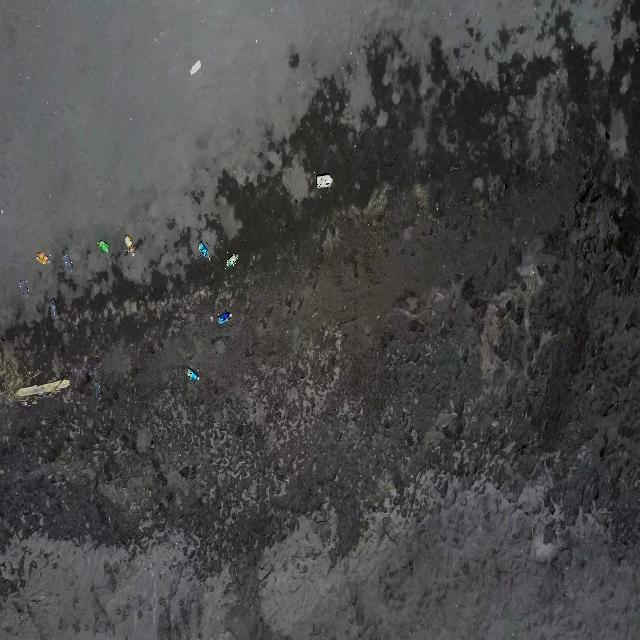plastic-bottle: (314, 172, 334, 189), (225, 251, 239, 269), (198, 241, 211, 260), (36, 251, 51, 266), (125, 235, 135, 256), (186, 368, 200, 382), (188, 59, 200, 75), (218, 312, 232, 325), (98, 239, 110, 254)
takeaway-cup: (49, 298, 59, 319), (63, 252, 73, 273), (94, 379, 103, 401), (19, 280, 29, 298)
